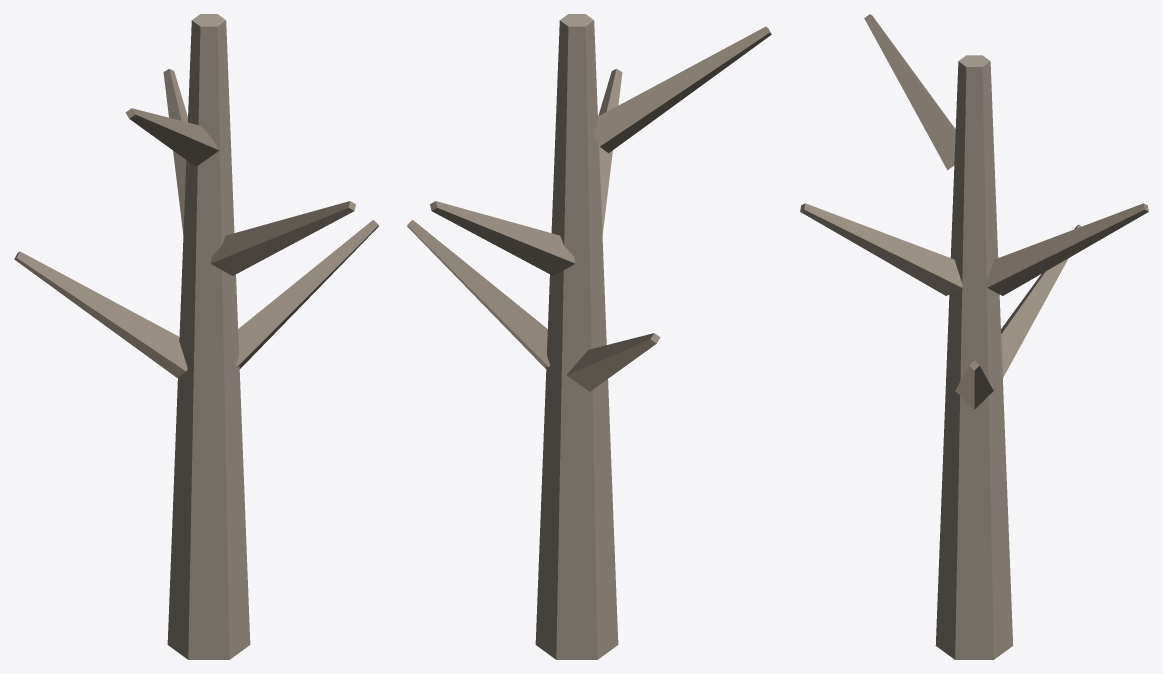
The model's file is deadtree_v22.glb.
The picture shows the model from 3 angles, left to right: view 1: azimuth 30°, elevation 25°; view 2: azimuth 150°, elevation 25°; view 3: azimuth 270°, elevation 25°; orthographic projection. The views are drawn at different scales.
Visible parts, largest first — view 1: lod0; view 2: lod0; view 3: lod0.
Boxes of the visible parts, left/top/right/bottom form: lod0: left=14, top=14, right=378, bottom=659; lod0: left=407, top=14, right=771, bottom=659; lod0: left=800, top=14, right=1148, bottom=659.
Size of what is drawn, in the model's own units: 2.68 by 5.2 by 2.81.
